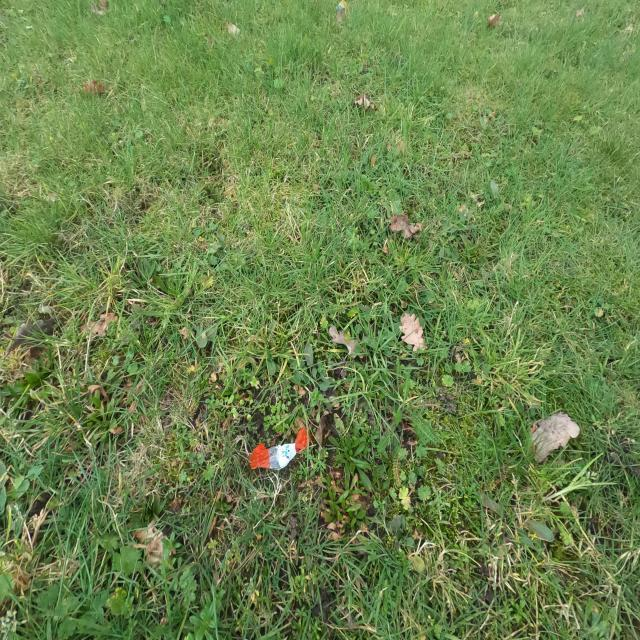Plastic: (248, 426, 312, 472)
